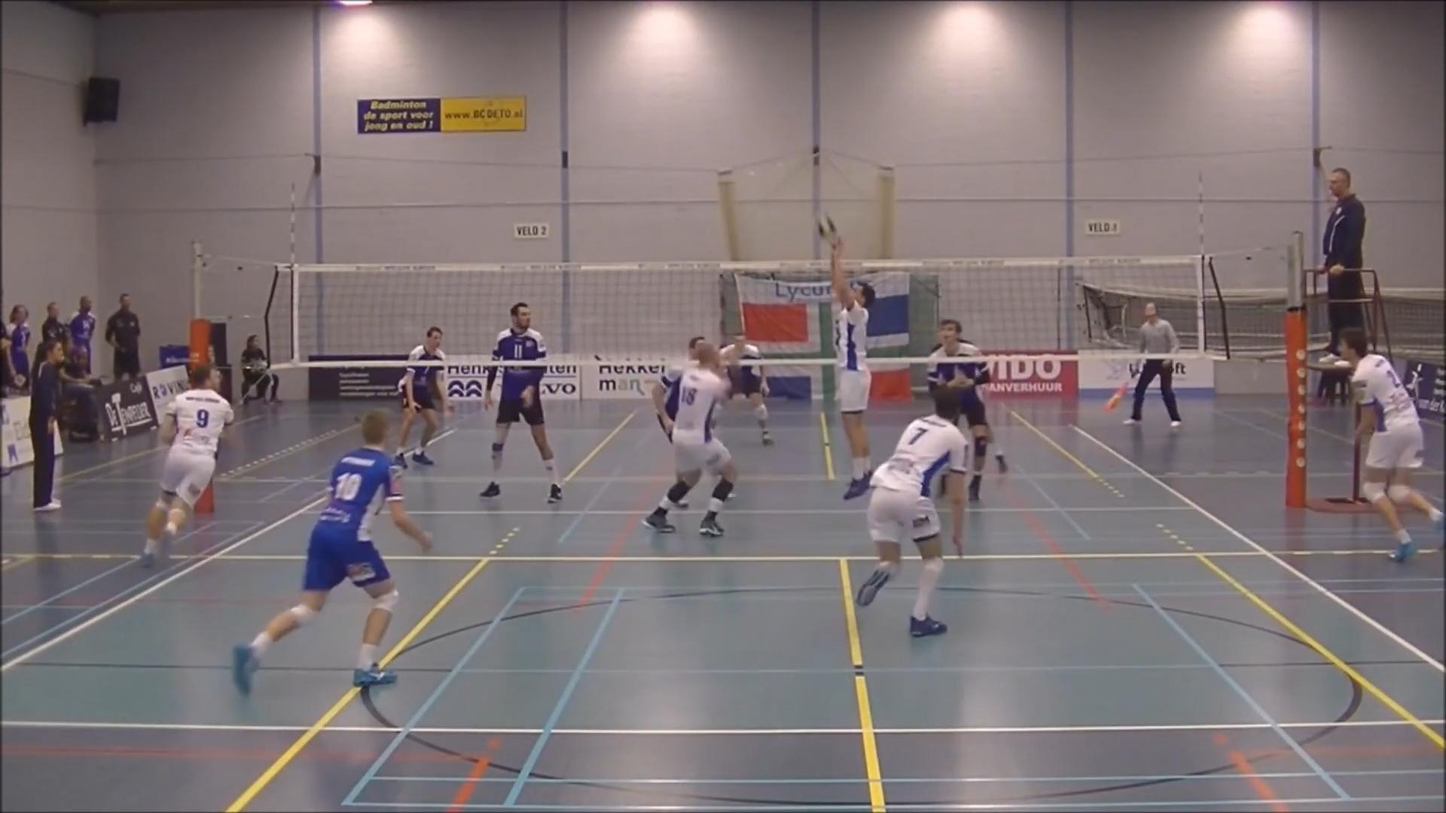alzata: (828, 236, 878, 493)
